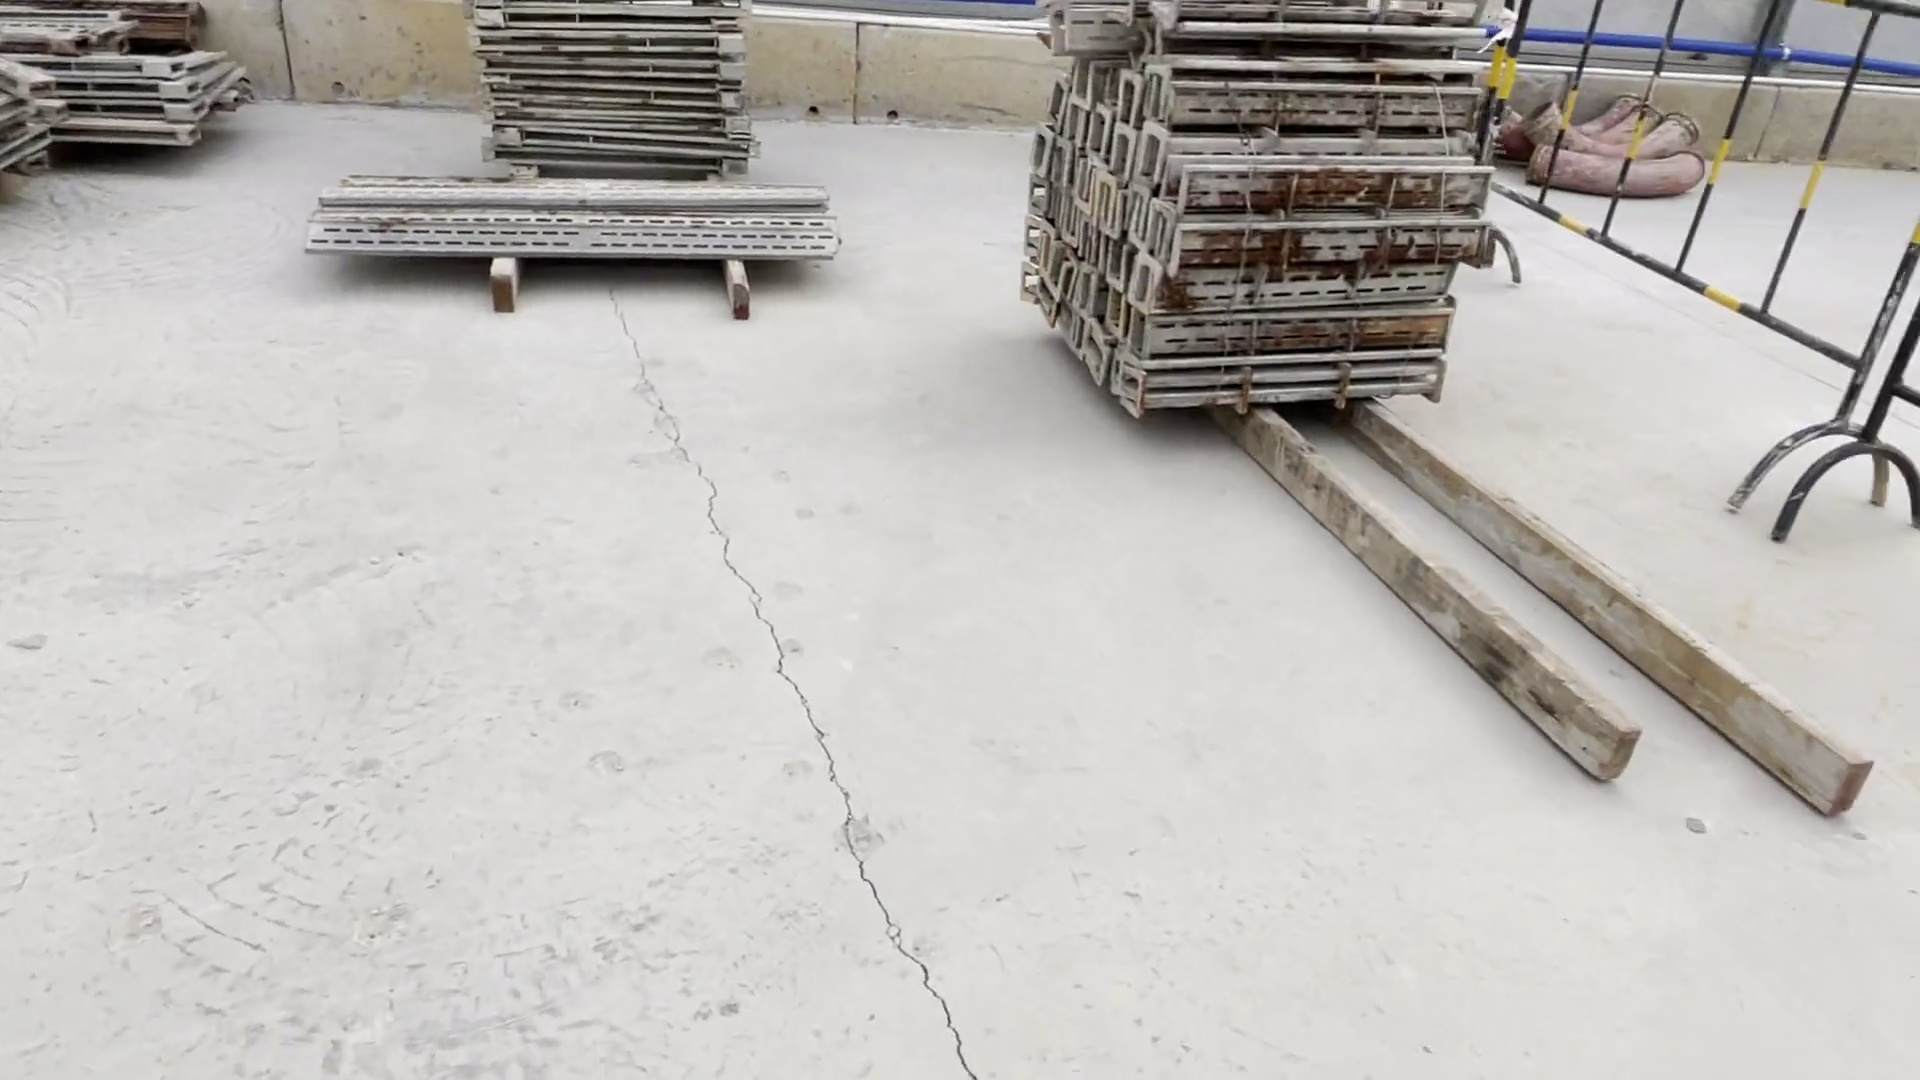fence: (1476, 1, 1920, 541)
